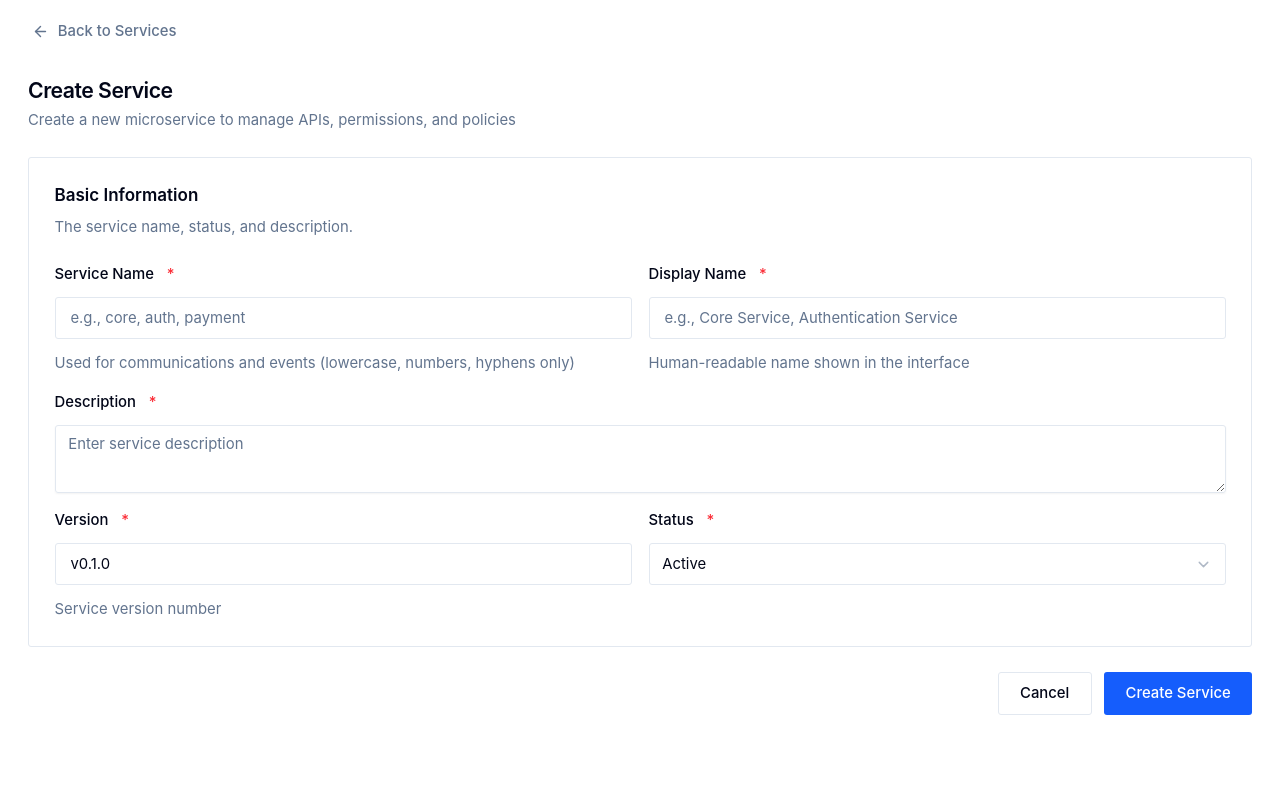
ServiceAddOrUpdateForm › keyword-maps unstructured server errors onto a field
Type "billing" into the field labelled "Service Name *" at (343, 318), box [54,297,632,340]
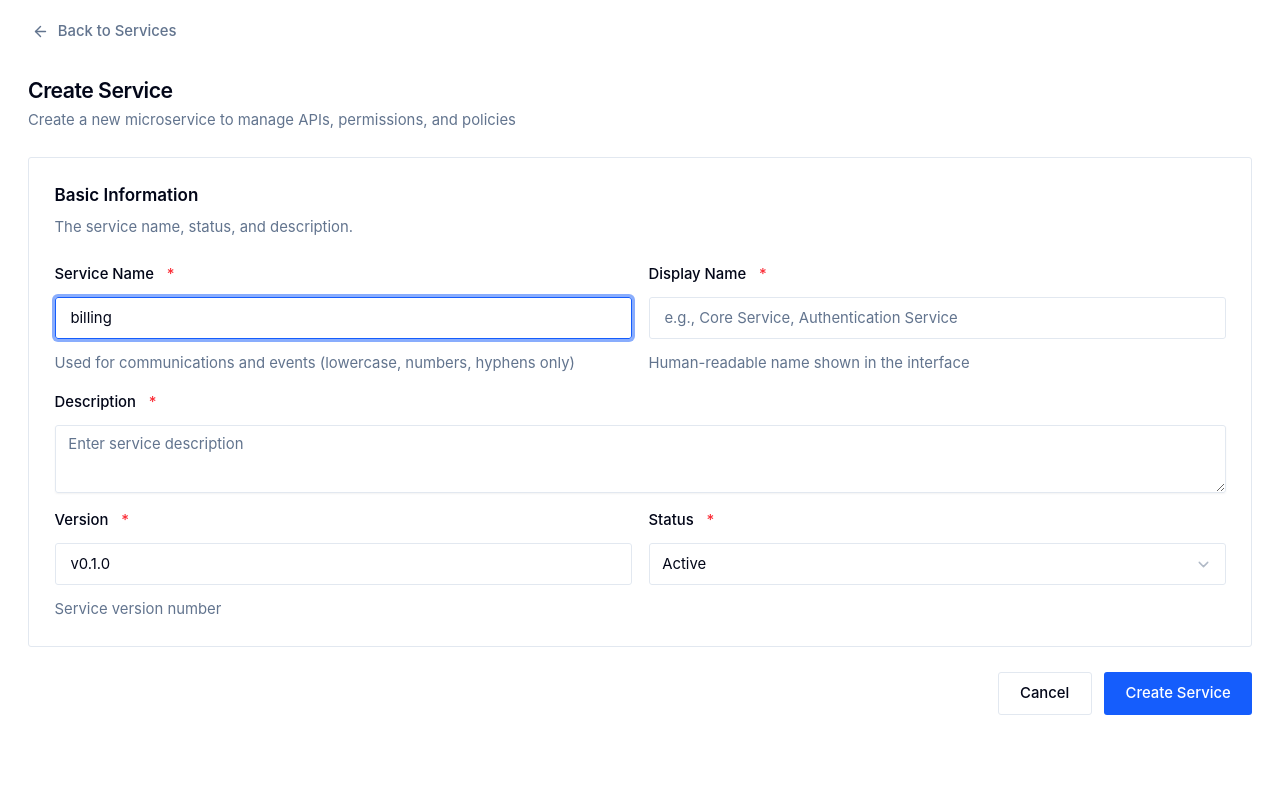
Type "Billing Service" into the field labelled "Display Name *" at (937, 318), box [648,297,1226,340]
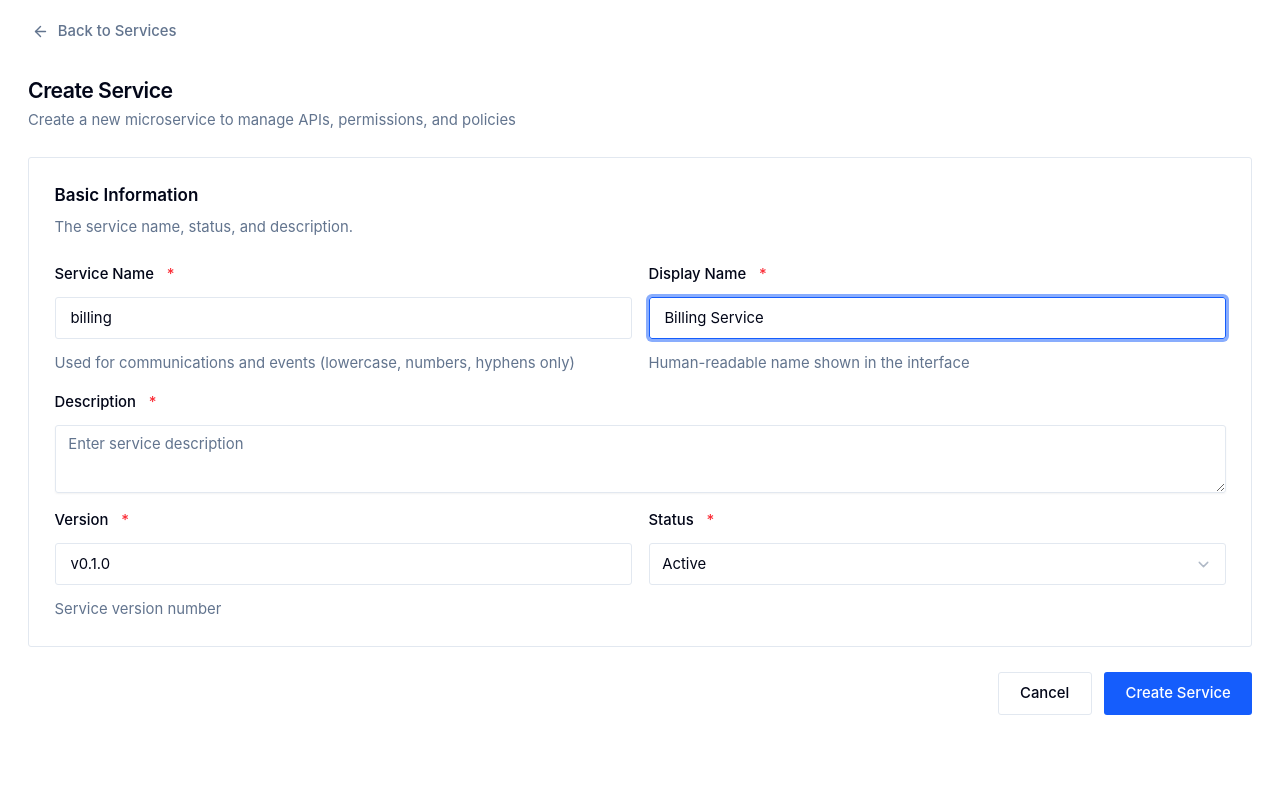
Type "Handles invoices and payments" into the text box labelled "Description *" at (640, 459), box [54,425,1226,493]
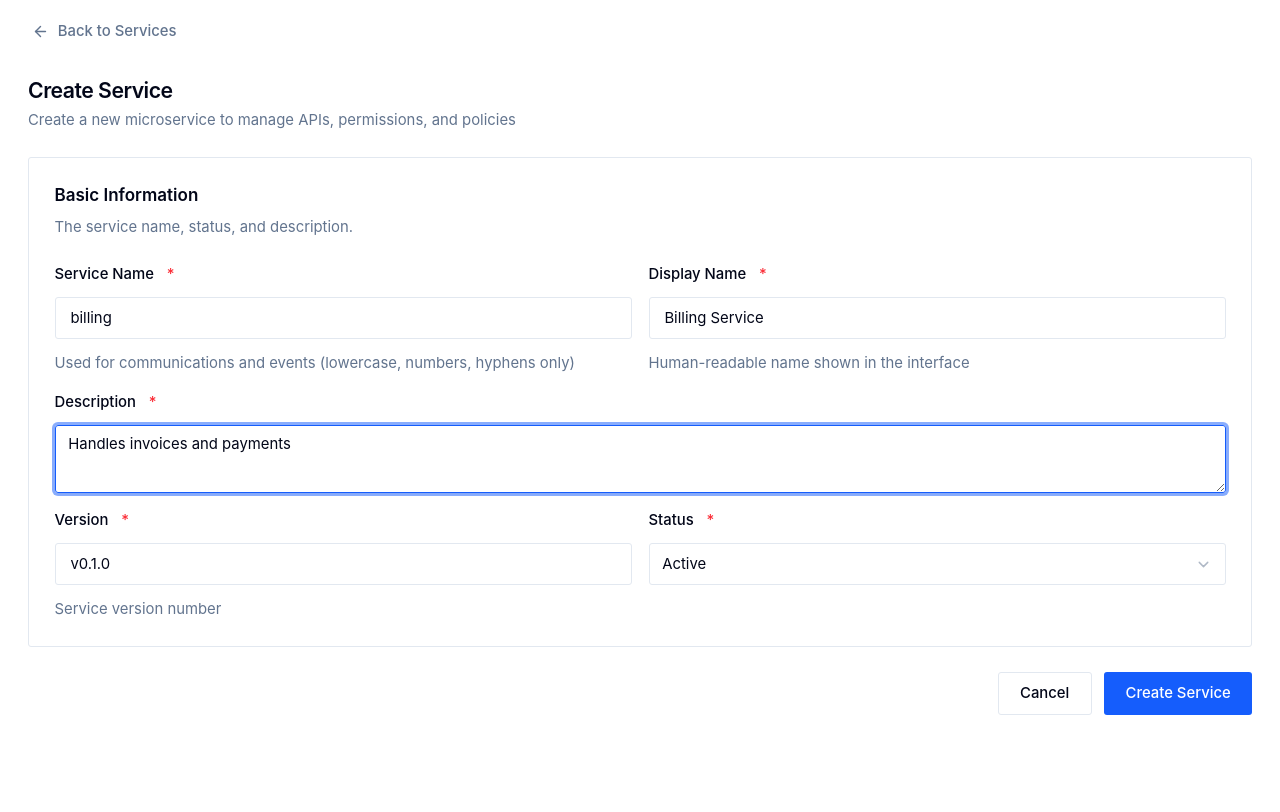
Click the button "Create Service" at (1178, 694), box [1104,672,1252,715]
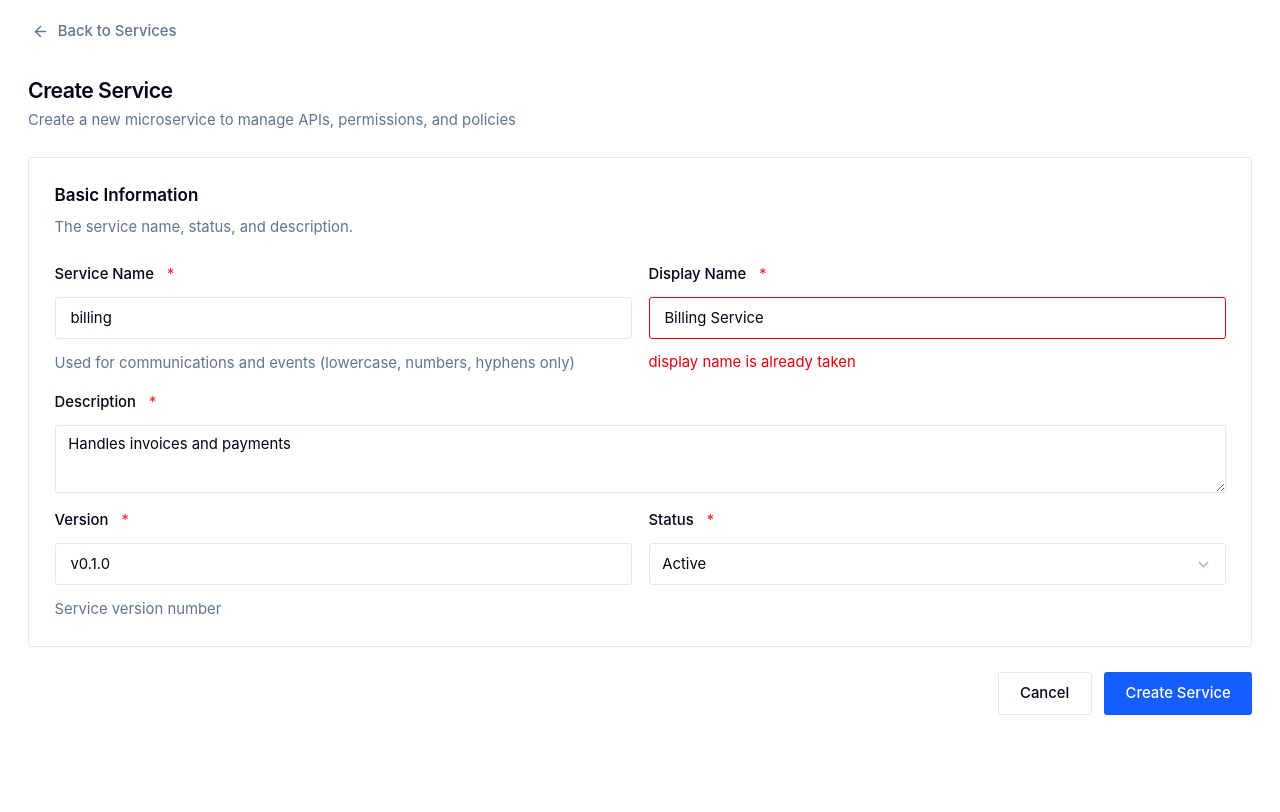
Expected: the text "display name is already taken" is shown, [648,353,856,371]
